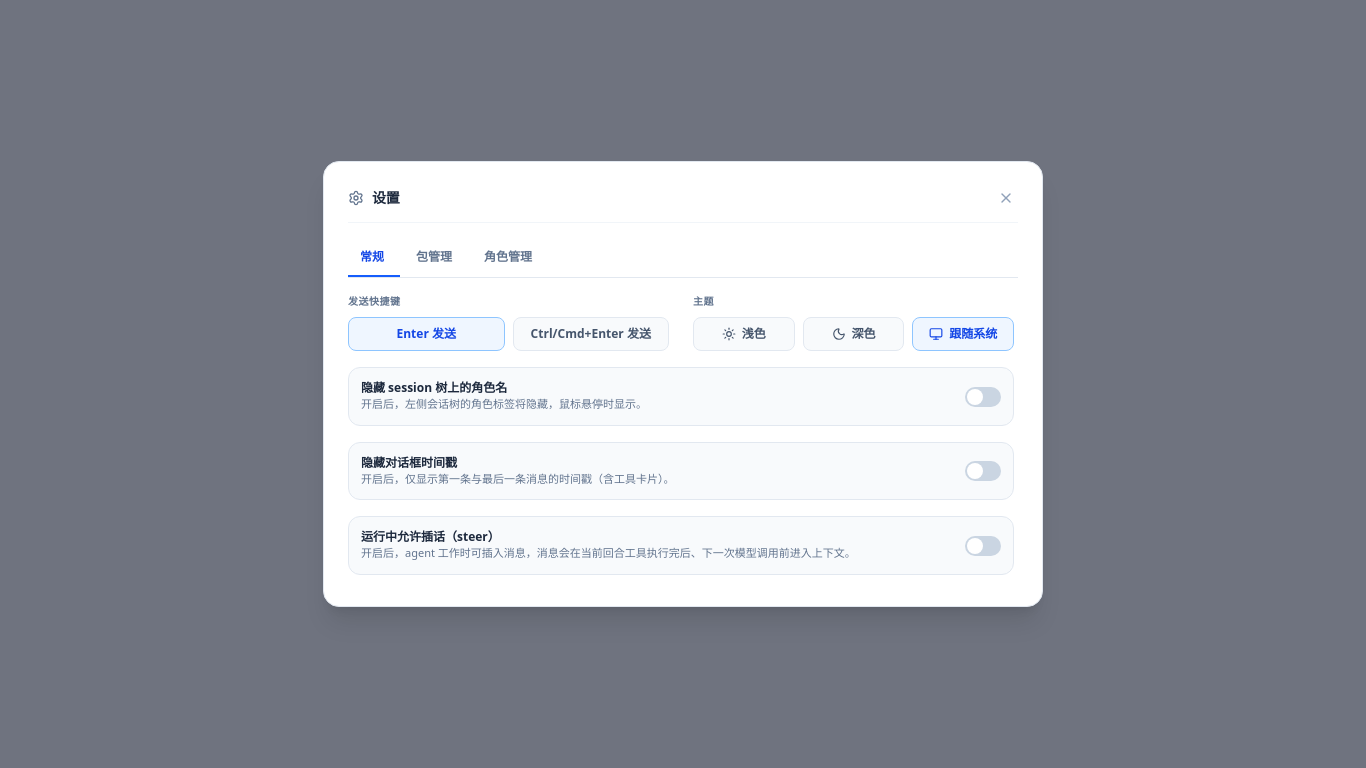
Test: 设置面板：运行中允许插话（steer） › 保存失败：回滚到服务端值并提示
The width and height of the screenshot is (1366, 768).
Click the checkbox with test id "allow-runtime-injection-toggle" at (983,546), box [965,536,1001,556]
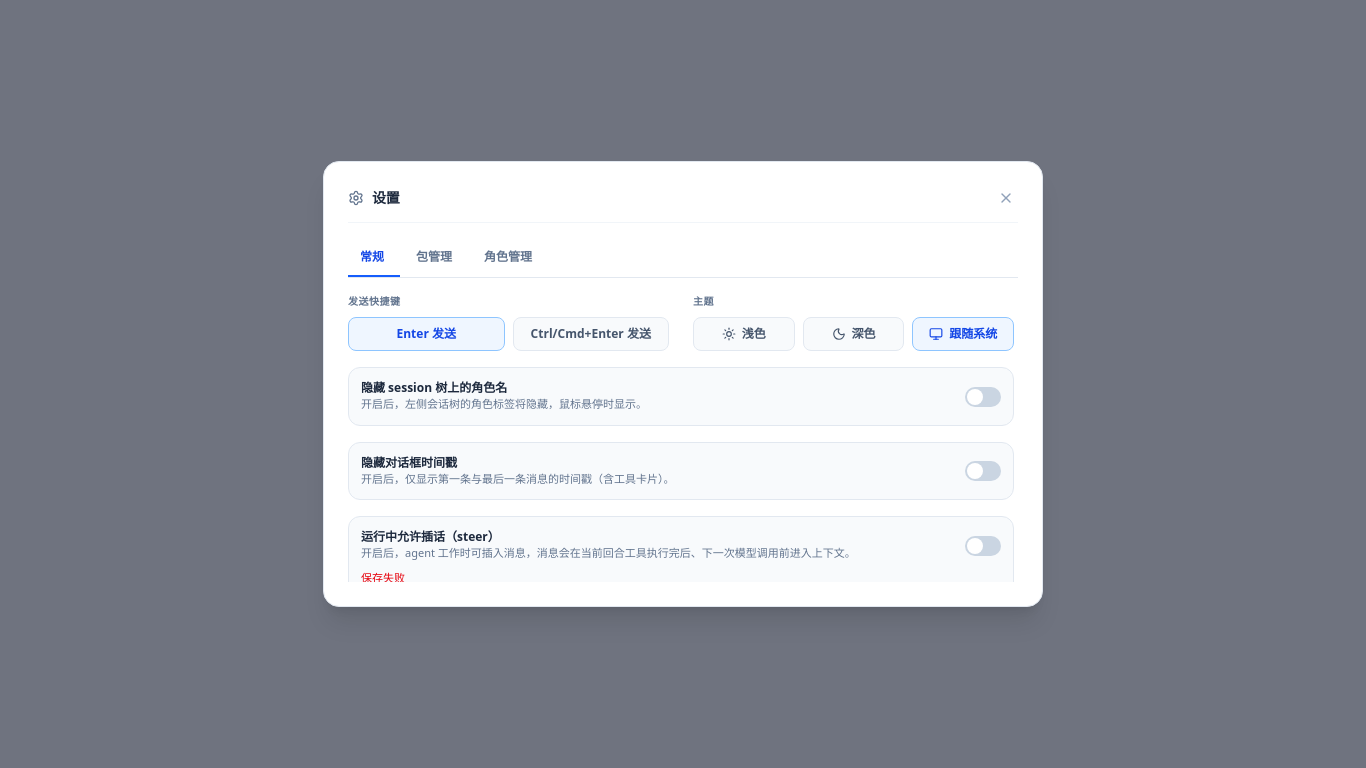
Expected: the text "保存失败" is shown, [361,570,405,582]
